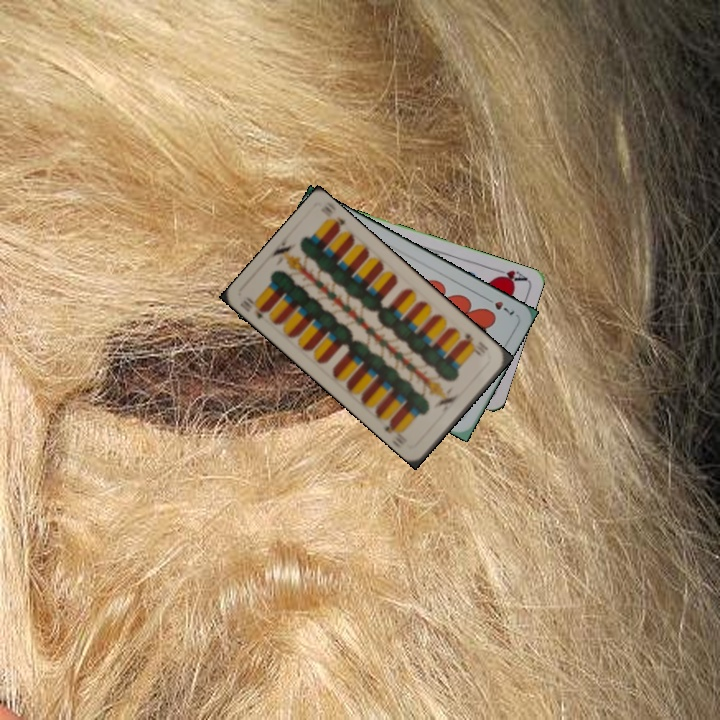E10: (236, 293, 271, 322), (458, 329, 491, 356)
H7: (481, 293, 517, 318)
HA: (489, 264, 529, 286)
